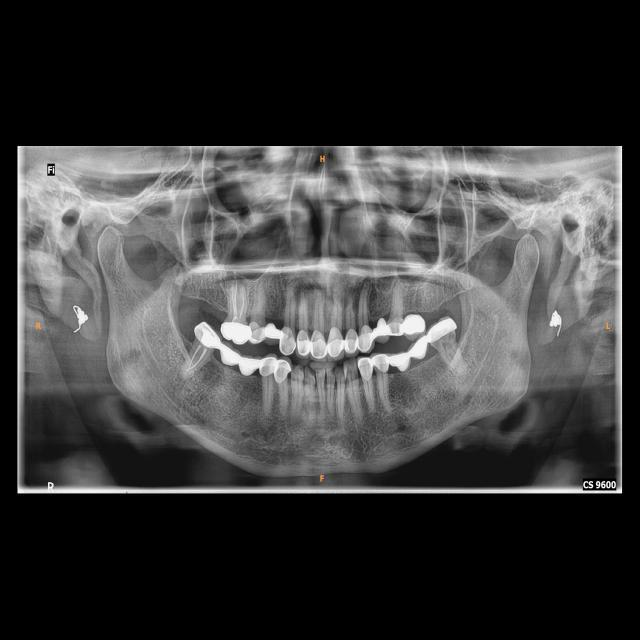kanal-tedavisi: (227, 282, 246, 322), (184, 345, 209, 375)
kaplama: (424, 312, 464, 346), (192, 323, 219, 348), (221, 322, 253, 343), (327, 326, 344, 356), (310, 329, 327, 358), (402, 314, 426, 334), (280, 325, 295, 353), (258, 354, 276, 376), (273, 357, 289, 381), (356, 357, 374, 378), (388, 315, 405, 337), (358, 324, 372, 350), (296, 330, 311, 354), (343, 328, 358, 352), (372, 352, 389, 373), (250, 322, 265, 344)
kopru: (386, 331, 437, 377), (214, 344, 264, 382), (368, 316, 396, 341), (260, 320, 286, 345)
